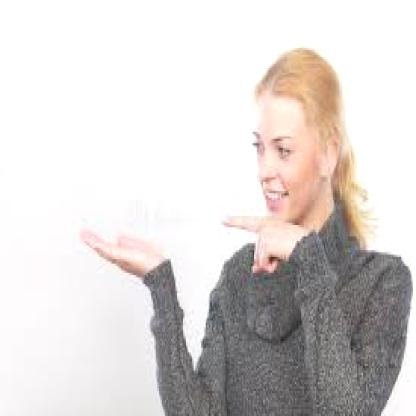Right: (224, 199, 319, 275)
